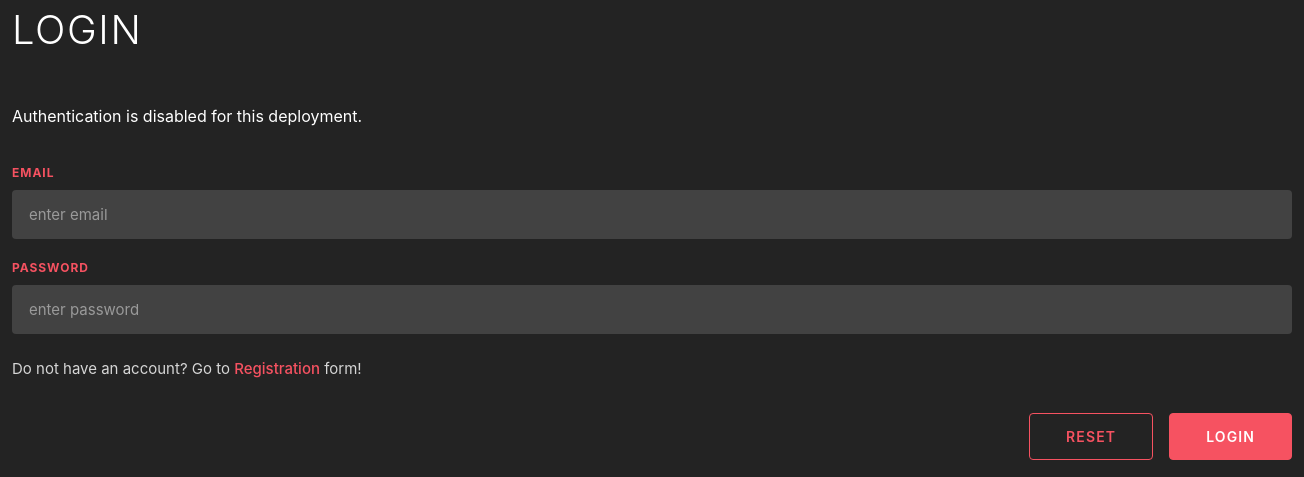
Test: UserForm Component › login form › clears fields and errors on reset button click
The width and height of the screenshot is (1304, 477).
Type "john@example.com" into the field with placeholder "enter email" at (652, 214), box [12,190,1292,239]
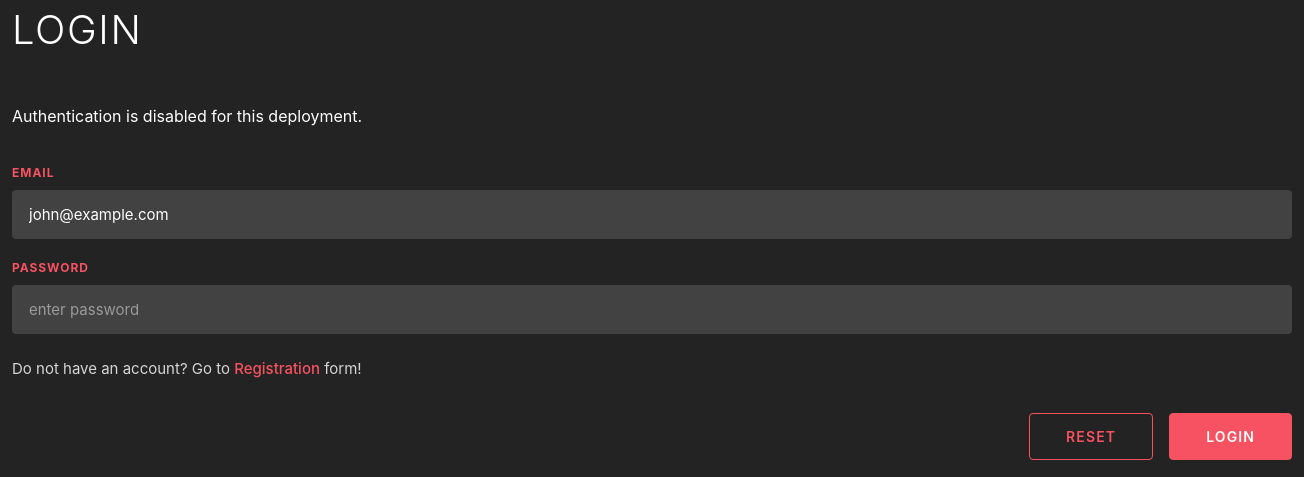
Type "password123" into the password field with placeholder "enter password" at (652, 310), box [12,285,1292,334]
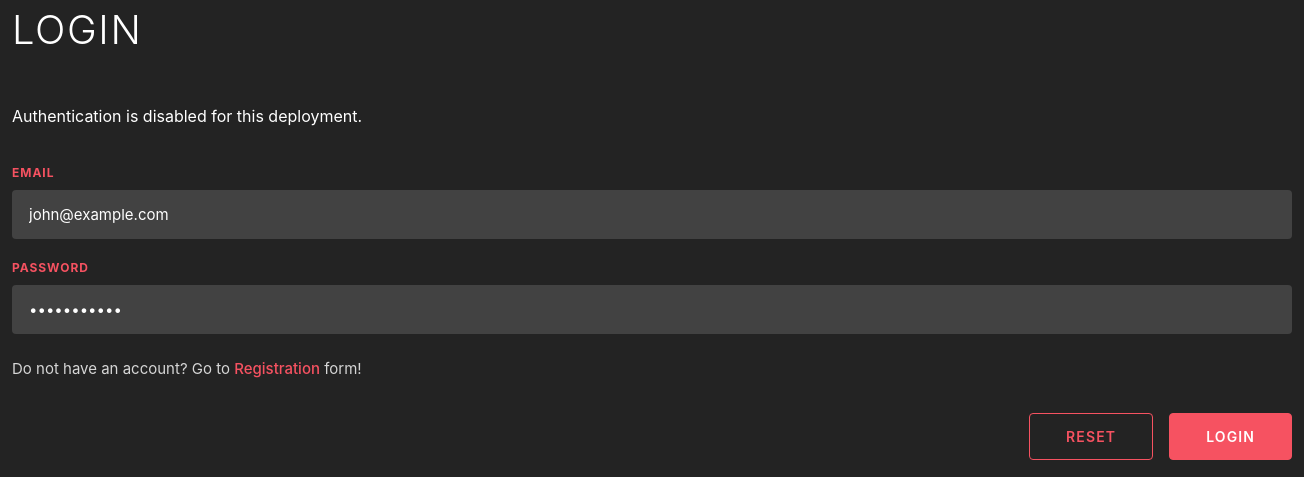
Click the button "RESET" at (1091, 436), box [1029,413,1153,460]
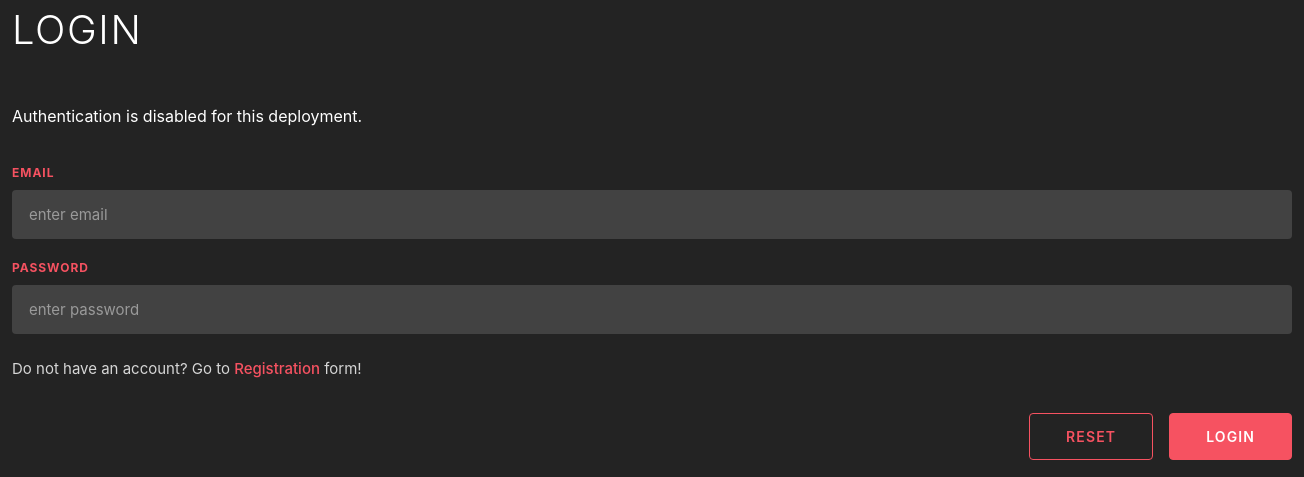
Check: the field with placeholder "enter email" is empty, box [12,190,1292,239]
Check: the password field with placeholder "enter password" is empty, box [12,285,1292,334]
